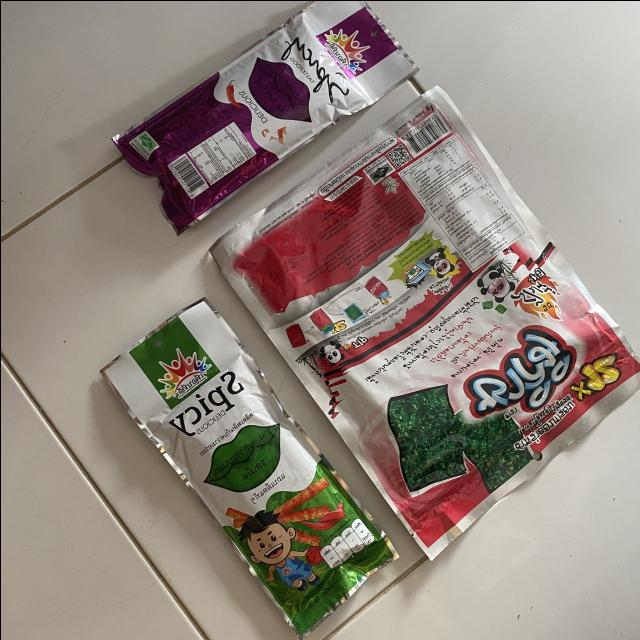plastik: (210, 87, 640, 557), (101, 298, 396, 636), (113, 0, 415, 232)
